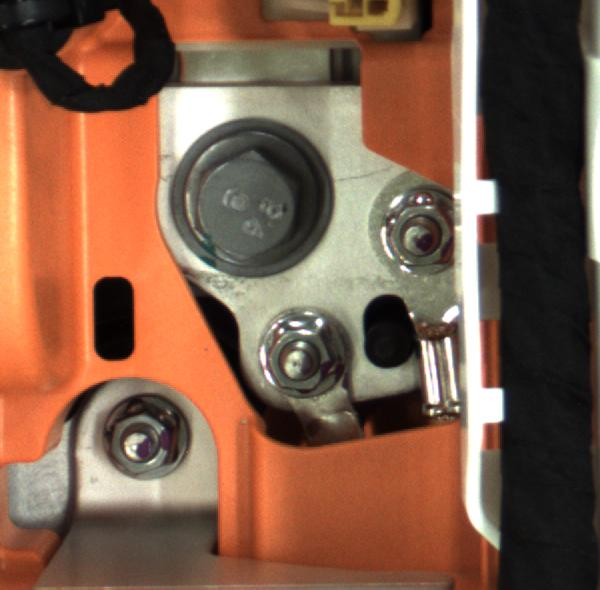nut_b: (164, 119, 329, 267)
screw_s: (244, 312, 367, 396), (96, 396, 198, 484), (374, 186, 467, 276)
